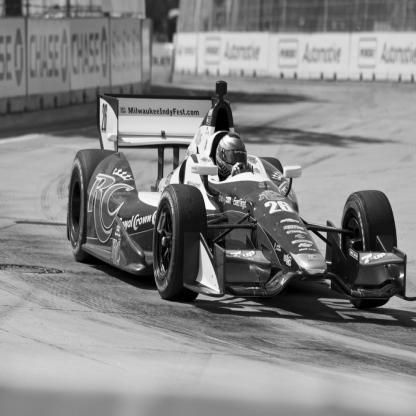car: (25, 72, 408, 325)
